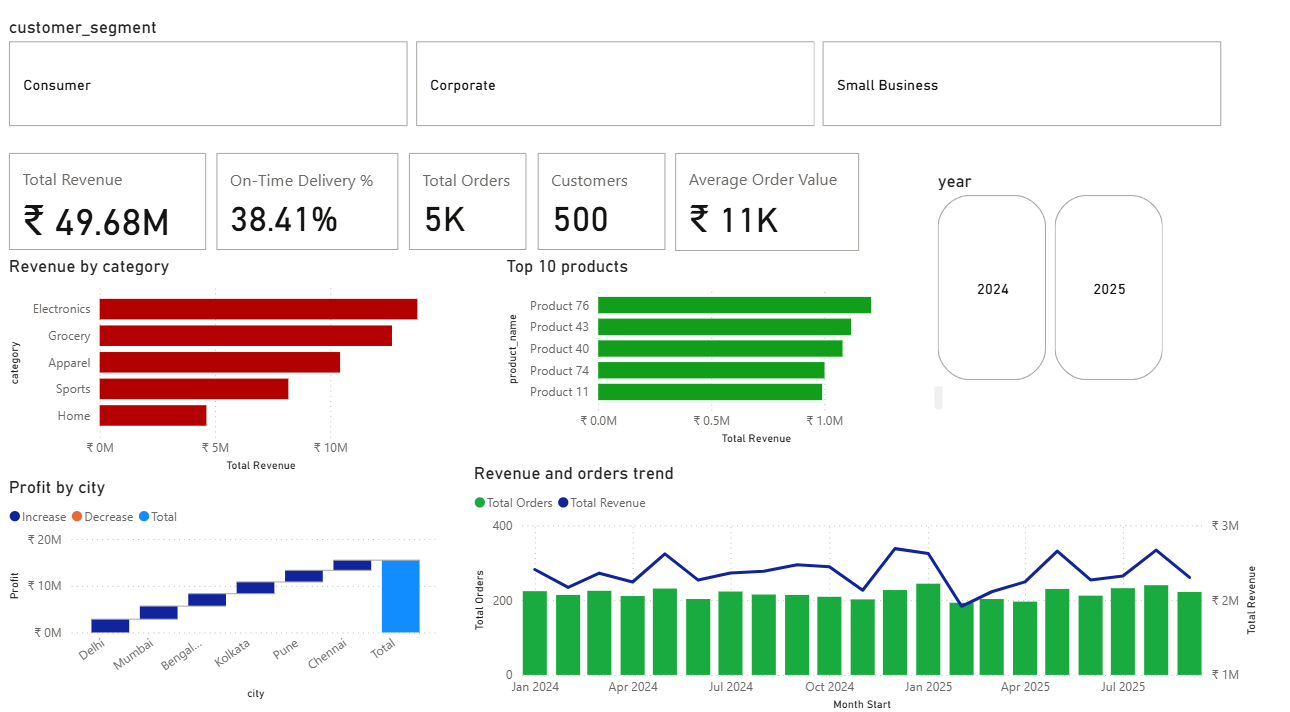

Layout of this report page (visuals, bound fields, positions):
{"tool":"powerbi","page":{"name":"Executive Overview","canvas":[1280,720],"ordinal":0},"visuals":[{"type":"cardVisual","fields":{"Data":["_Measures.Total Revenue"]},"box":[10,156.7,203.3,105],"z":0},{"type":"cardVisual","fields":{"Data":["_Measures.Total Orders"]},"box":[401.7,156.7,125,105],"z":1000},{"type":"cardVisual","fields":{"Data":["_Measures.Customers"]},"box":[526.7,156.7,135,105],"z":2000},{"type":"cardVisual","fields":{"Data":["_Measures.Average Order Value"]},"box":[661.6,156.5,190.8,106.4],"z":3000},{"type":"cardVisual","fields":{"Data":["_Measures.On-Time Delivery %"]},"box":[213.3,156.7,188.3,105],"z":4000},{"type":"lineClusteredColumnComboChart","title":"Revenue and orders trend","fields":{"Category":["dim_date.Month Start"],"Y":["_Measures.Total Orders"],"Y2":["_Measures.Total Revenue"]},"box":[464.5,464.5,776.6,247.3],"z":5000},{"type":"clusteredBarChart","title":"Top 10 products","fields":{"Category":["dim_product.product_name"],"Y":["_Measures.Total Revenue"]},"box":[496.7,261.7,436.7,190],"z":6000},{"type":"clusteredBarChart","title":"Revenue by category","fields":{"Category":["dim_product.category"],"Y":["_Measures.Total Revenue"]},"box":[10,261.7,431.7,216.7],"z":7000},{"type":"advancedSlicerVisual","fields":{"Values":["dim_customer.customer_segment"]},"box":[9.8,28.1,1197.2,112.5],"z":9000},{"type":"advancedSlicerVisual","fields":{"Values":["dim_date.year"]},"box":[918.4,177.9,346.8,211.1],"z":10000},{"type":"waterfallChart","fields":{"Category":["dim_customer.city"],"Y":["_Measures.Profit"]},"box":[10,478.3,431.7,223.3],"z":11000}]}

Visuals, with their boxes in screenshot pixels (x1, y1, x2, y2), scaled from the page's 1280x720 canvas onto the 1290x712 screenshot:
cardVisual - _Measures.Total Revenue: crop(10, 155, 215, 259)
cardVisual - _Measures.Total Orders: crop(405, 155, 531, 259)
cardVisual - _Measures.Customers: crop(531, 155, 667, 259)
cardVisual - _Measures.Average Order Value: crop(667, 155, 859, 260)
cardVisual - _Measures.On-Time Delivery %: crop(215, 155, 405, 259)
"Revenue and orders trend" lineClusteredColumnComboChart: crop(468, 459, 1251, 704)
"Top 10 products" clusteredBarChart: crop(501, 259, 941, 447)
"Revenue by category" clusteredBarChart: crop(10, 259, 445, 473)
advancedSlicerVisual - dim_customer.customer_segment: crop(10, 28, 1216, 139)
advancedSlicerVisual - dim_date.year: crop(926, 176, 1275, 385)
waterfallChart - dim_customer.city x _Measures.Profit: crop(10, 473, 445, 694)
